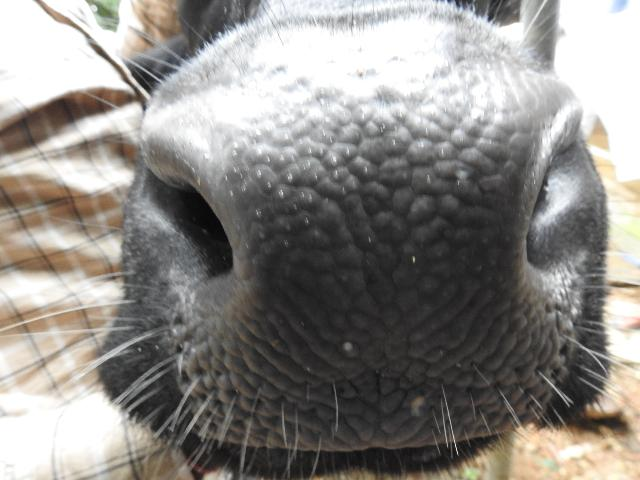Muzzle: (191, 96, 534, 412)
